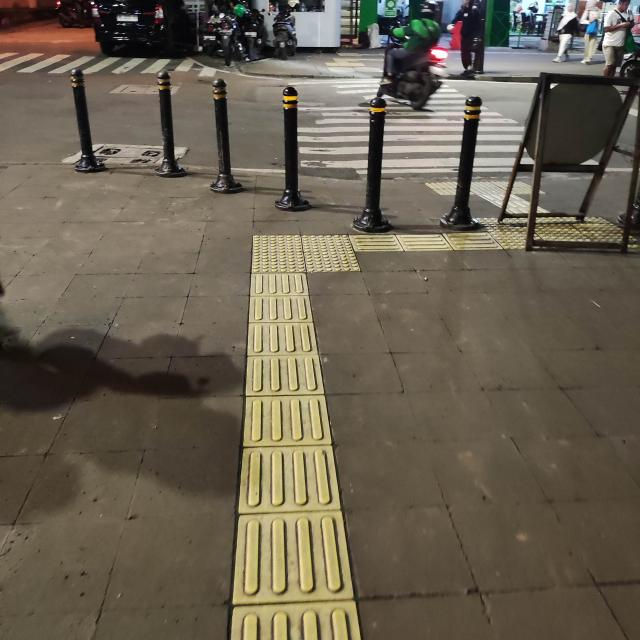kanan: (227, 215, 444, 302)
